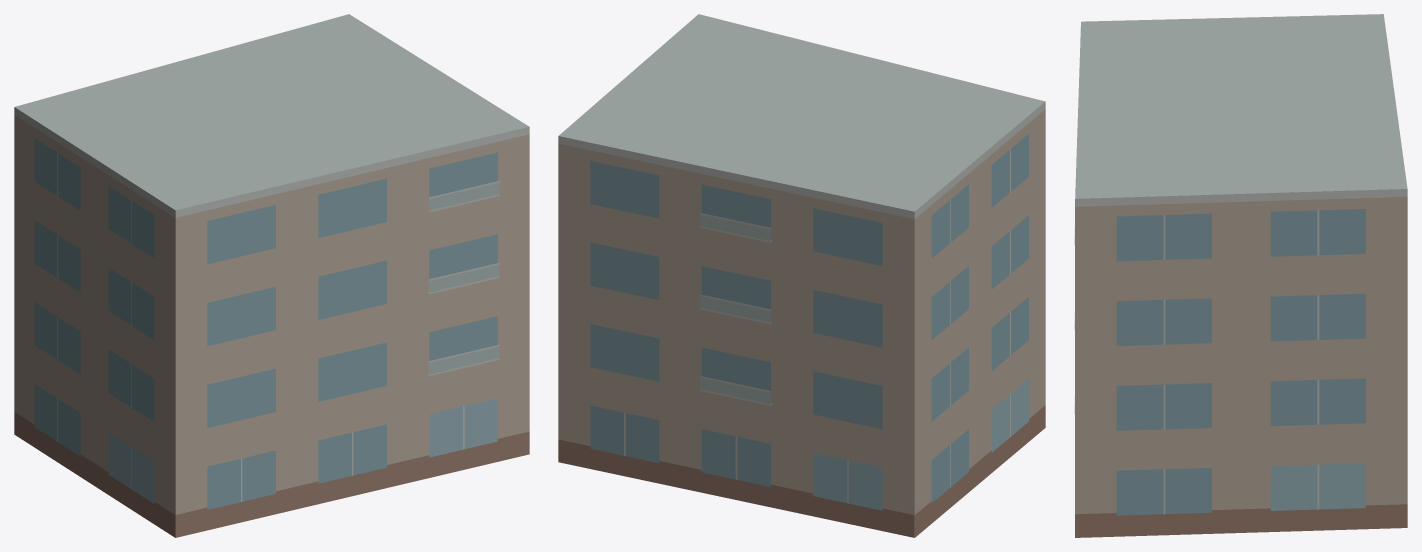
The model's file is survey-upis-32496845.glb.
3 views of the same model, side by side, from view 1: azimuth 30°, elevation 25°; view 2: azimuth 150°, elevation 25°; view 3: azimuth 270°, elevation 25° (orthographic). The views are drawn at different scales.
Parts seen in each view (by area): view 1: survey-upis-32496845.tmp; view 2: survey-upis-32496845.tmp; view 3: survey-upis-32496845.tmp.
Part boxes in pixels (left/top/right/bottom): survey-upis-32496845.tmp: left=14, top=14, right=529, bottom=537; survey-upis-32496845.tmp: left=558, top=14, right=1045, bottom=537; survey-upis-32496845.tmp: left=1074, top=14, right=1407, bottom=537.
Bounding box in the file's own units: 12.35 × 10.55 × 9.41.
